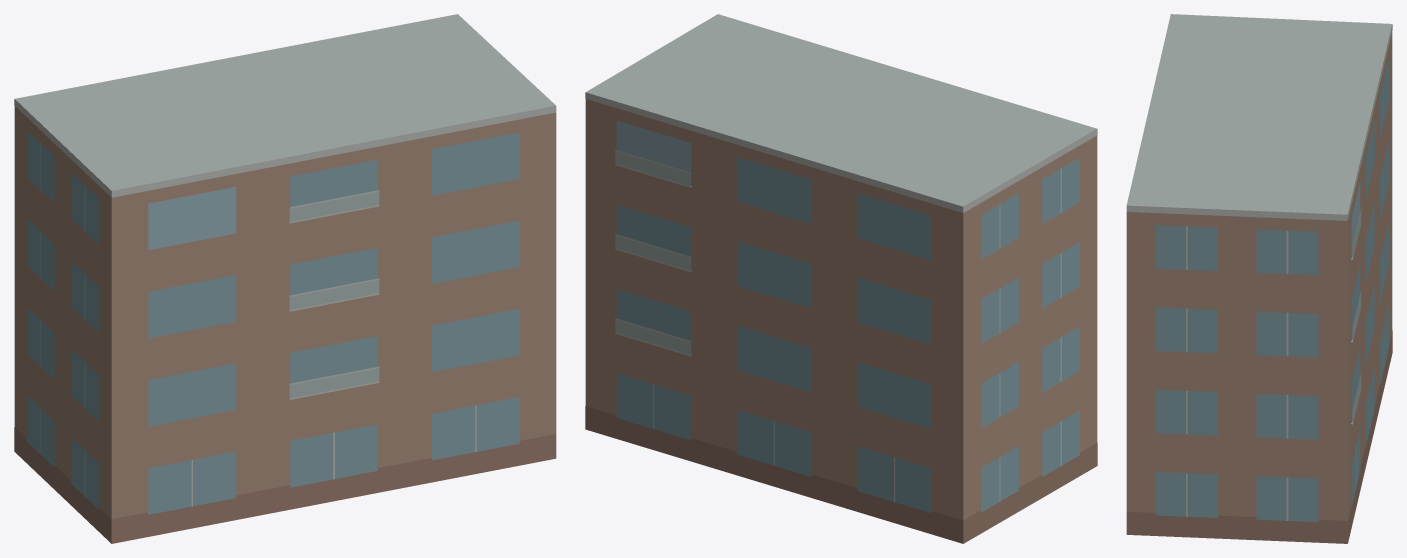
File: survey-upis-32736438.glb
3 renders of one model, left to right at view 1: azimuth 30°, elevation 25°; view 2: azimuth 150°, elevation 25°; view 3: azimuth 270°, elevation 25°, orthographic. The views are drawn at different scales.
Visible parts, largest first — view 1: survey-upis-32736438.tmp; view 2: survey-upis-32736438.tmp; view 3: survey-upis-32736438.tmp.
Part boxes in pixels (bbox=[...]): survey-upis-32736438.tmp: bbox=[14, 14, 556, 543]; survey-upis-32736438.tmp: bbox=[585, 14, 1097, 543]; survey-upis-32736438.tmp: bbox=[1126, 14, 1392, 543].
Size of the model in its own units: 16.75 by 12.8 by 9.38.
